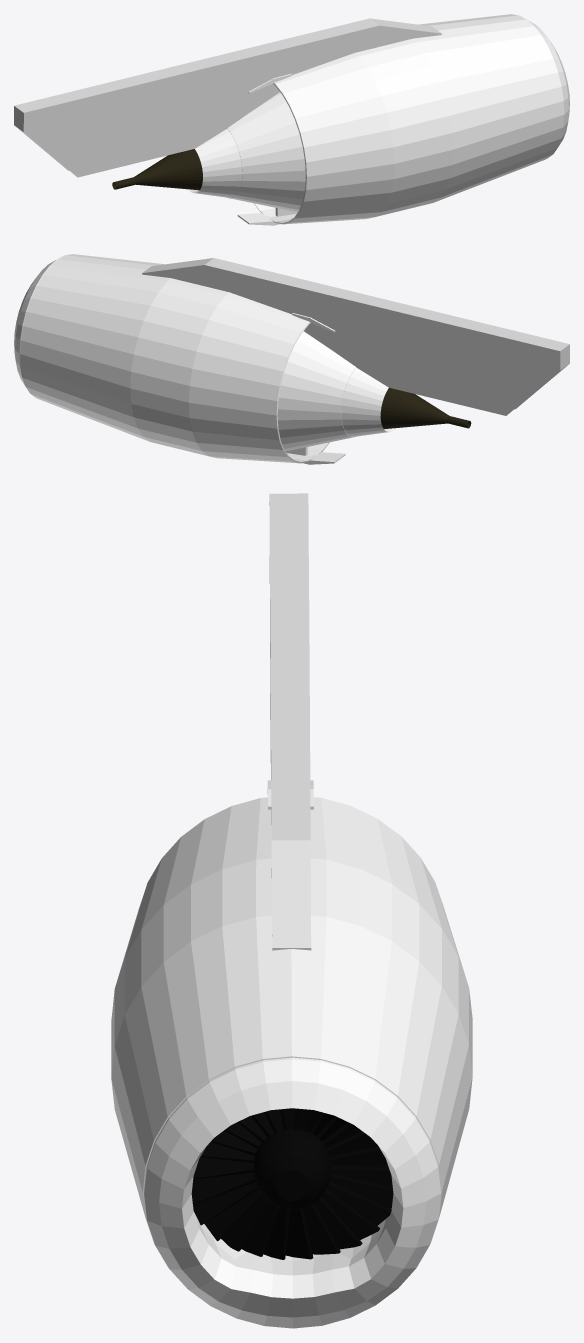
3 renders of one model, top to bottom at view 1: azimuth 30°, elevation 25°; view 2: azimuth 150°, elevation 25°; view 3: azimuth 270°, elevation 25°, orthographic. The views are drawn at different scales.
Parts seen in each view (by area): view 1: 円柱, 立方体.003, 円柱.004, 円柱.005, 円柱.006, 円柱.003, 立方体.001; view 2: 円柱, 立方体.003, 円柱.004, 円柱.005, 円柱.006, 円柱.003, 立方体.001; view 3: 円柱, 円柱.003, 円柱.007, 立方体.003.
Boxes of the visible parts, x1=… form: 円柱: x1=254, y1=14, x2=562, y2=224; 立方体.003: x1=14, y1=18, x2=441, y2=177; 円柱.004: x1=227, y1=92, x2=305, y2=212; 円柱.005: x1=188, y1=128, x2=242, y2=197; 円柱.006: x1=112, y1=149, x2=202, y2=190; 円柱.003: x1=519, y1=15, x2=569, y2=158; 立方体.001: x1=237, y1=213, x2=280, y2=225; 円柱: x1=20, y1=254, x2=329, y2=463; 立方体.003: x1=142, y1=258, x2=569, y2=415; 円柱.004: x1=277, y1=331, x2=356, y2=451; 円柱.005: x1=341, y1=367, x2=395, y2=436; 円柱.006: x1=380, y1=387, x2=471, y2=429; 円柱.003: x1=14, y1=255, x2=64, y2=397; 立方体.001: x1=302, y1=452, x2=345, y2=464; 円柱: x1=111, y1=797, x2=472, y2=1267; 円柱.003: x1=144, y1=1057, x2=441, y2=1328; 円柱.007: x1=191, y1=1108, x2=393, y2=1259; 立方体.003: x1=269, y1=493, x2=311, y2=950.
Bounding box in the file's own units: 8.09 × 2.72 × 2.42.
